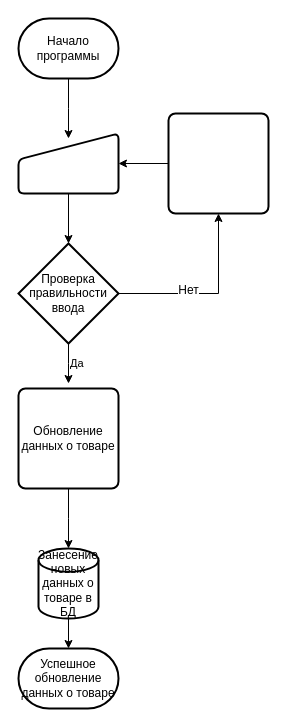
Image size: 286x726. Some labels were removed from this diagram. The centre of each missing label's shape, as x and y in pixels:
Ввод новых данных о товаре: the point at 68,163
Приложение выдаёт ошибку "Данные введены неверно": the point at 218,163
